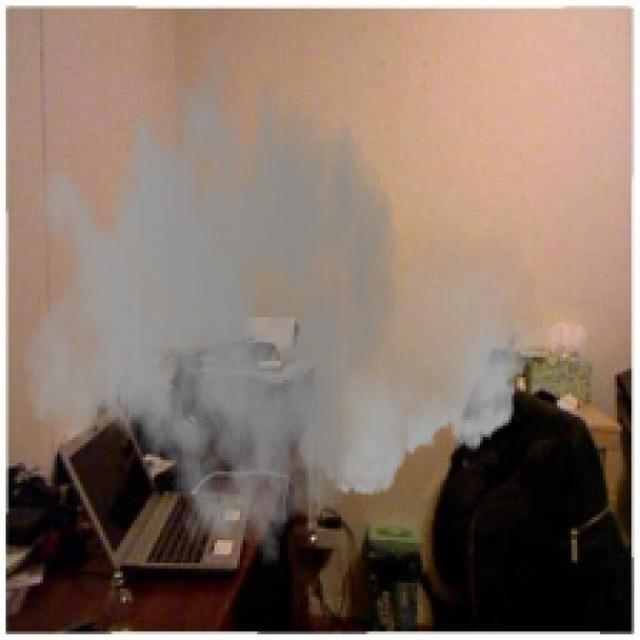smoke: (20, 17, 543, 566)
